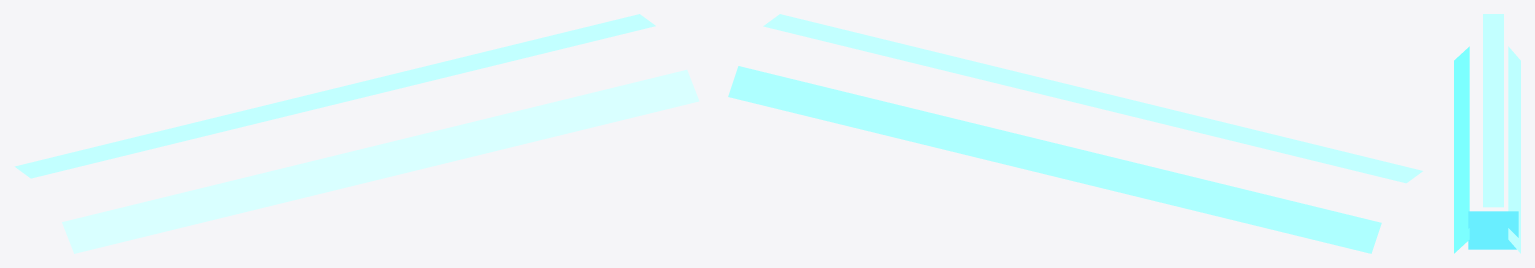
The model's file is pistolFire.glb.
3 views of the same model, side by side, from view 1: azimuth 30°, elevation 25°; view 2: azimuth 150°, elevation 25°; view 3: azimuth 270°, elevation 25° (orthographic). The views are drawn at different scales.
Visible parts, largest first — view 1: Plane (×2); view 2: Plane (×2); view 3: Plane (×4).
Boxes of the visible parts, <box> form: Plane (×2): <box>14,14,699,253</box>; Plane (×2): <box>728,14,1422,253</box>; Plane (×4): <box>1454,14,1520,253</box>.
Size of the model in its own units: 0.2043 by 0.0245 by 0.029.
